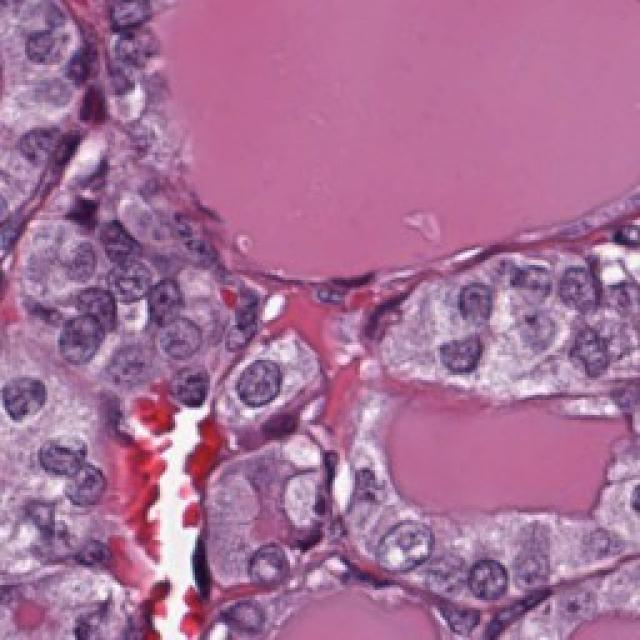abnormal: (197, 339, 306, 433), (537, 233, 633, 320), (451, 526, 538, 617), (34, 293, 122, 380), (360, 491, 437, 590), (268, 435, 339, 537), (78, 20, 170, 87), (501, 243, 571, 319), (422, 326, 487, 402), (437, 257, 496, 338), (37, 422, 106, 491), (107, 239, 165, 319), (147, 306, 216, 370), (571, 322, 625, 402), (502, 305, 568, 370), (6, 366, 64, 436), (61, 442, 120, 510), (228, 534, 297, 589)
